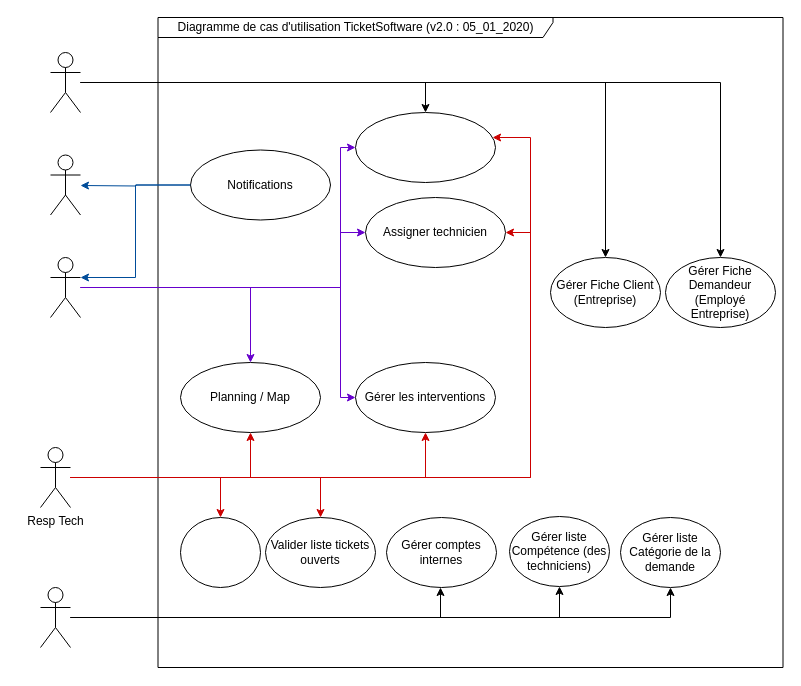
The diagram is 801 pixels wide and 686 high, and some of its shapes have lost their labels. The shapes that lost their labels are listed below. From the top down, each one's box as (x1, y1, x2, y2) in pixels, then its label:
(50, 52, 80, 112): Opérateur
(354, 112, 496, 182): Gérer tickets
(50, 154, 80, 215): Demandeur
(50, 256, 80, 318): Technicien
(180, 516, 260, 588): Voir statistiques
(40, 586, 70, 648): Administrateur
